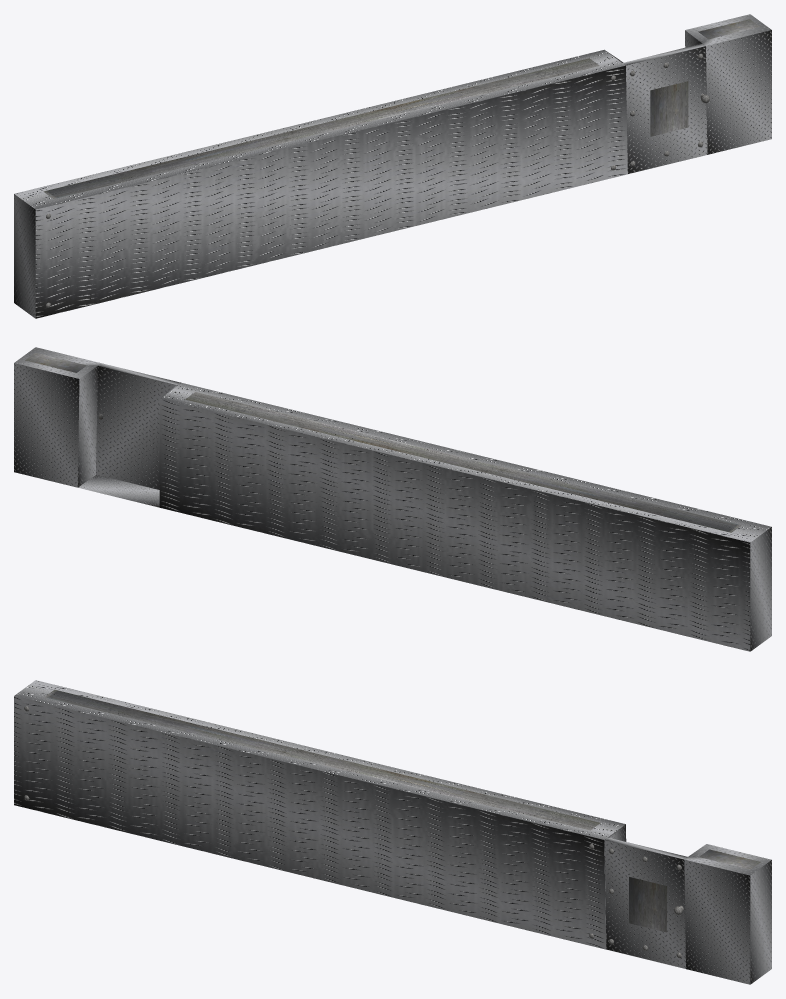
The model's file is MESA.obj.
The picture shows the model from 3 angles, top to bottom: view 1: azimuth 30°, elevation 25°; view 2: azimuth 150°, elevation 25°; view 3: azimuth 330°, elevation 25°; orthographic projection.
Visible parts, largest first — view 1: Cube_Cube.001, Plane, Plane.002, Plane.001; view 2: Cube_Cube.001, Plane, Plane.001; view 3: Cube_Cube.001, Plane, Plane.002, Plane.001.
Boxes of the visible parts, x1,y1,x2,y2 form: Cube_Cube.001: (14, 14, 771, 318); Plane: (43, 58, 599, 198); Plane.002: (650, 81, 688, 136); Plane.001: (698, 19, 759, 39); Cube_Cube.001: (14, 347, 771, 651); Plane: (185, 392, 741, 532); Plane.001: (25, 353, 86, 372); Cube_Cube.001: (14, 680, 771, 984); Plane: (44, 689, 600, 830); Plane.002: (629, 877, 666, 932); Plane.001: (699, 849, 760, 869).
Bounding box in the file's own units: 9.88 × 1.4 × 0.6188.
